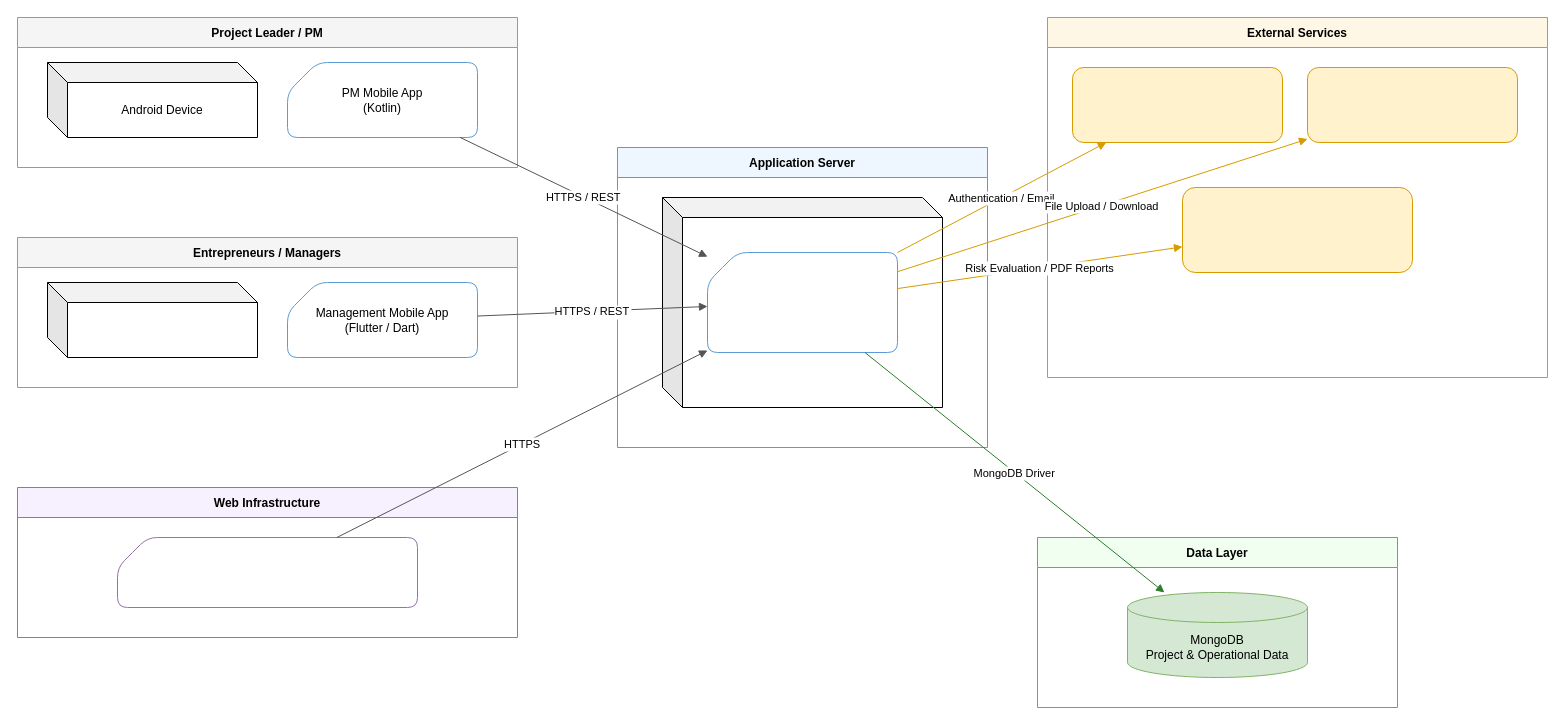
The diagram is 1565 pixels wide and 725 high, and some of its shapes have lost their labels. Here are the shapes that lost their labels. From the top down, the centre of each, then its label:
At point 1177,104: "Auth0 & SendGrid (Authentication / Email)".
At point 1412,104: "AWS S3 (File Storage)".
At point 1297,229: "Risk Engine & Export Services (Risk / PDF Reports)".
At point 152,320: "Mobile Device".
At point 802,302: "«artifact» Backend API Spring Boot".
At point 267,572: "Landing Page HTML / CSS / JavaScript".
